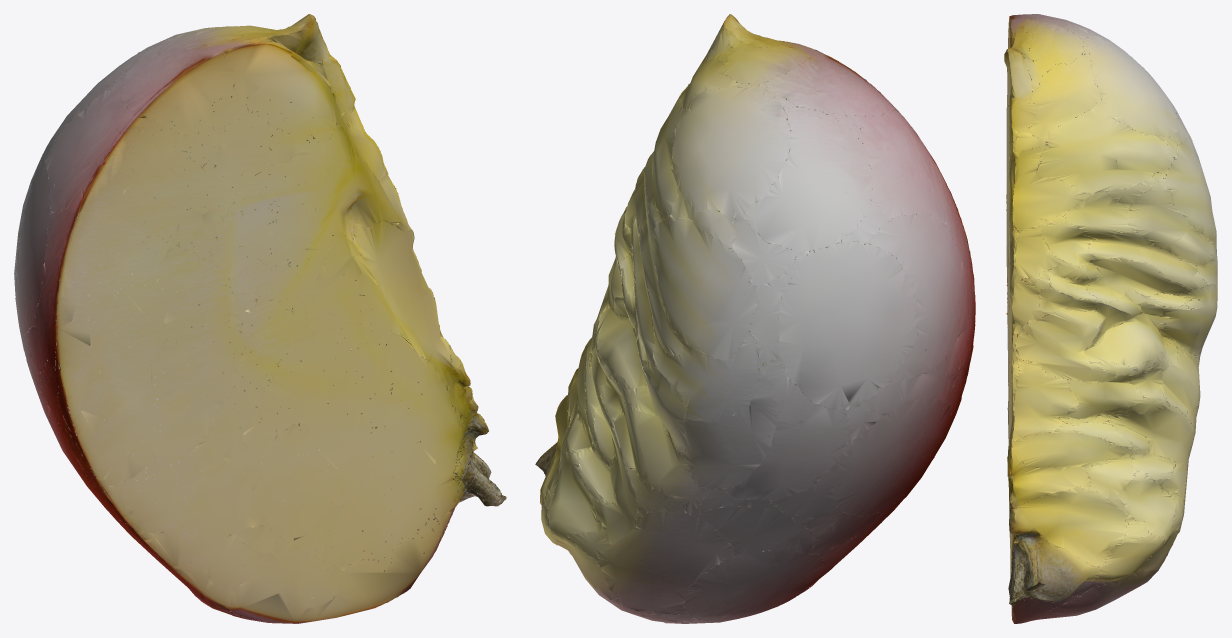
The model's file is apple-v2.glb.
3 renders of one model, left to right at view 1: azimuth 30°, elevation 25°; view 2: azimuth 150°, elevation 25°; view 3: azimuth 270°, elevation 25°, orthographic. The views are drawn at different scales.
Parts seen in each view (by area): view 1: node_0.001; view 2: node_0.001; view 3: node_0.001.
Part boxes in pixels (x1=…): node_0.001: x1=14, y1=14, x2=506, y2=623; node_0.001: x1=535, y1=14, x2=975, y2=623; node_0.001: x1=1004, y1=14, x2=1217, y2=623.
Bounding box in the file's own units: 0.6641 × 0.8532 × 0.3025.
1 material, 1 textured.
